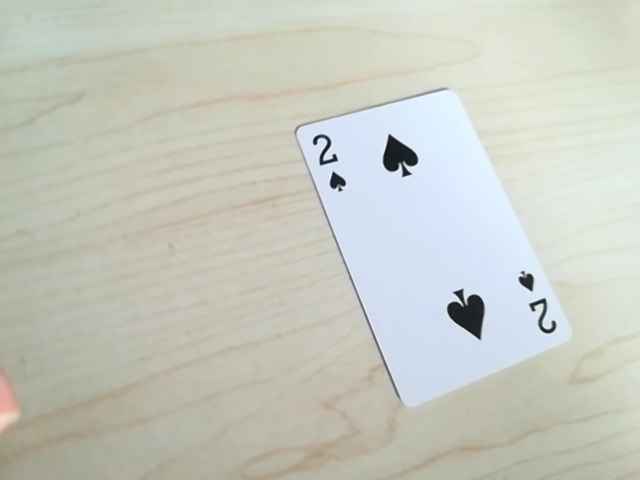ht 2: (516, 261, 556, 344), (304, 123, 347, 199)
